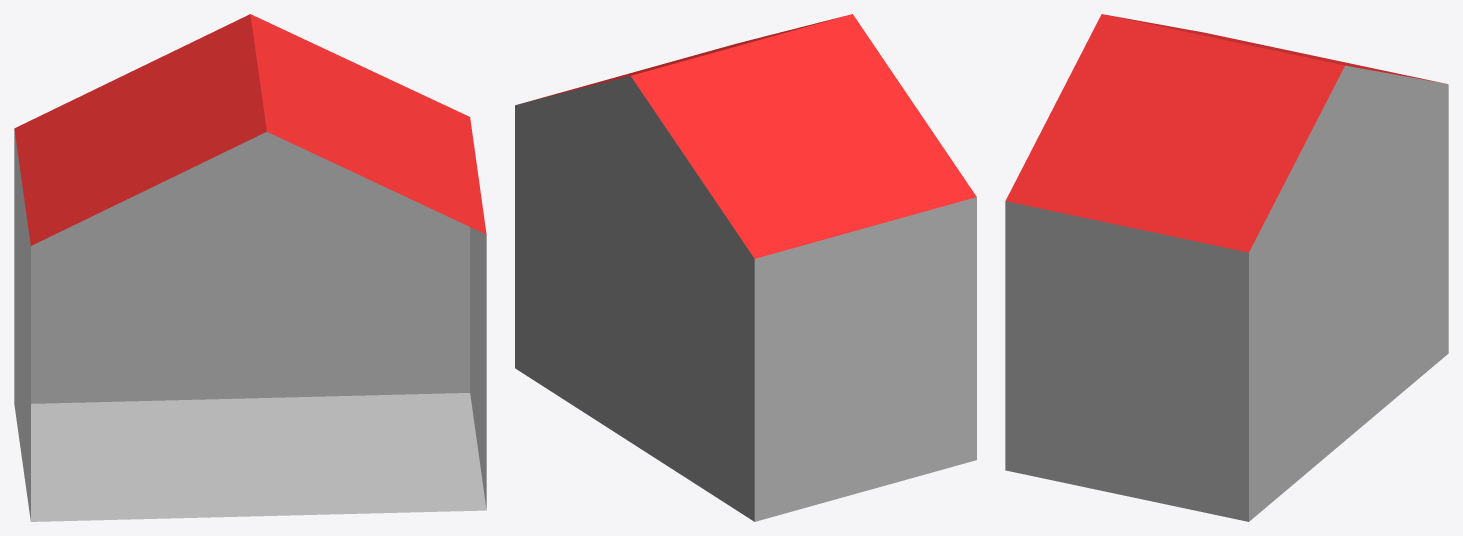
The model's file is pb-96359a0e-7f36-11f0-a191-9c7bef4dcf4c.dae.
3 renders of one model, left to right at view 1: azimuth 30°, elevation 25°; view 2: azimuth 150°, elevation 25°; view 3: azimuth 270°, elevation 25°, orthographic. The views are drawn at different scales.
Size of the model in its own units: 10.51 by 8.95 by 8.36.
